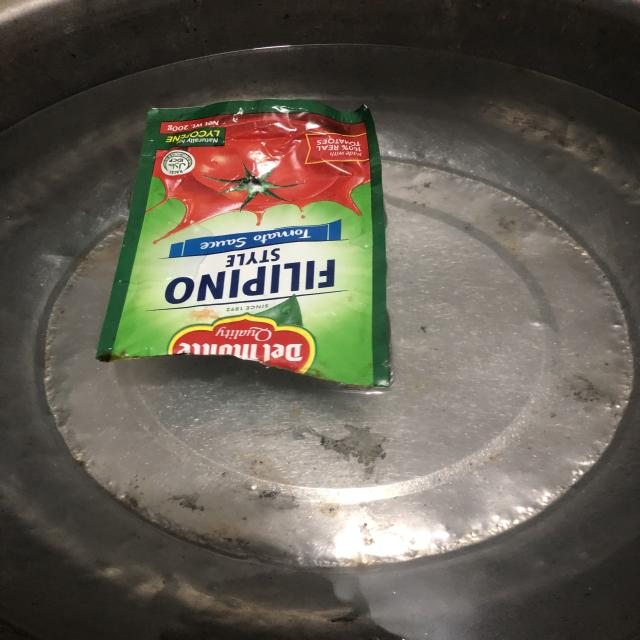Plastic Pouch: (112, 94, 422, 401)
